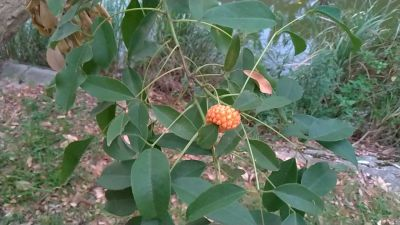eggs: (208, 100, 240, 132)
